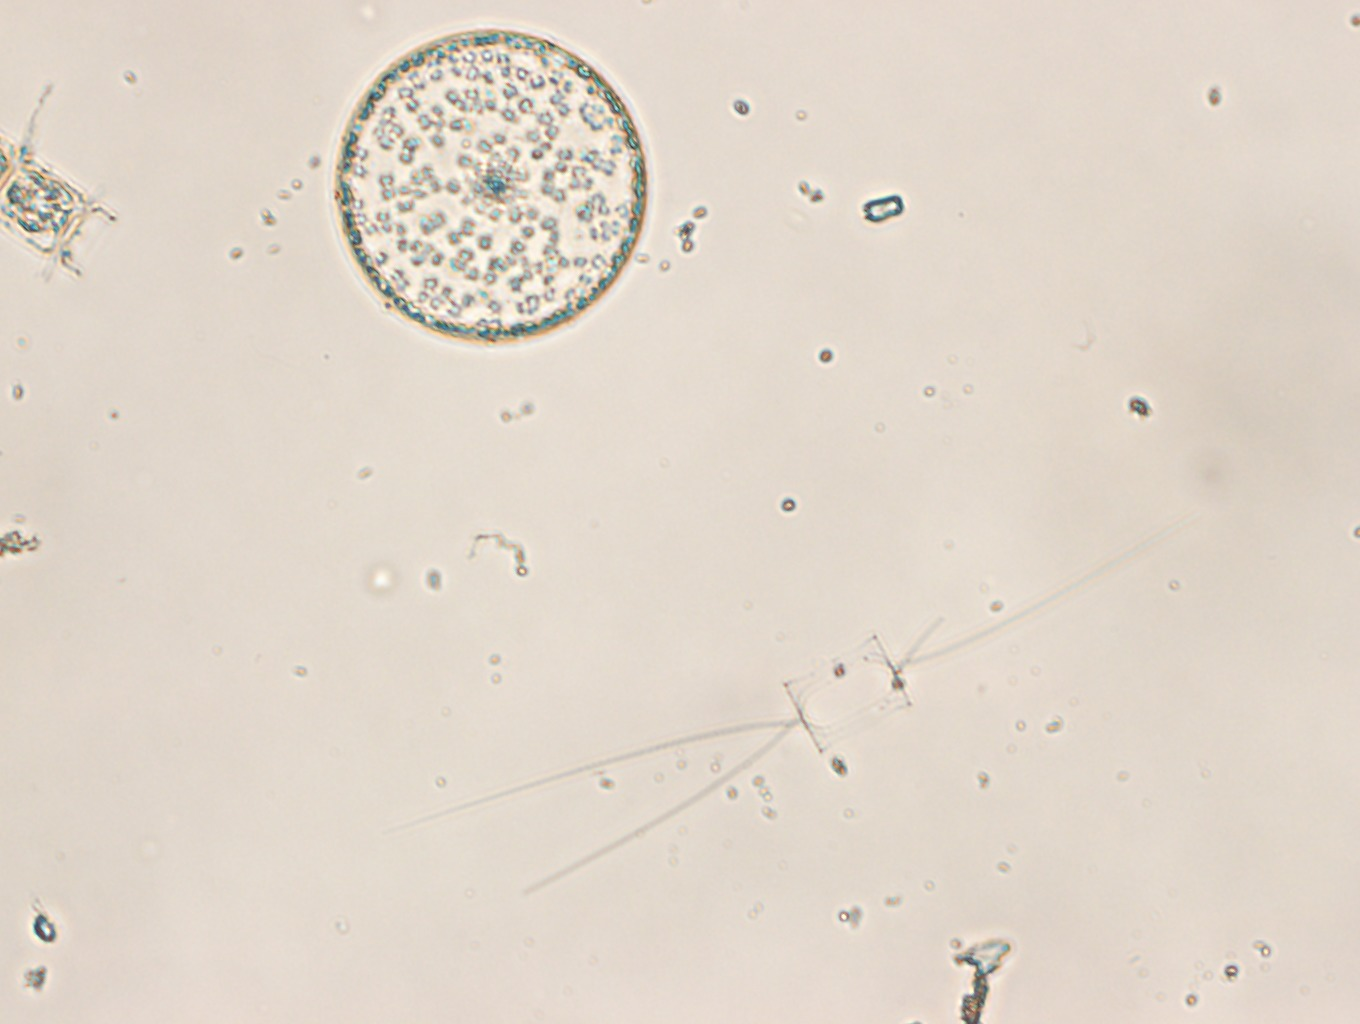chaetoceros: (393, 516, 1197, 893), (1, 91, 116, 283)
coscinodiscus: (332, 29, 650, 342)
